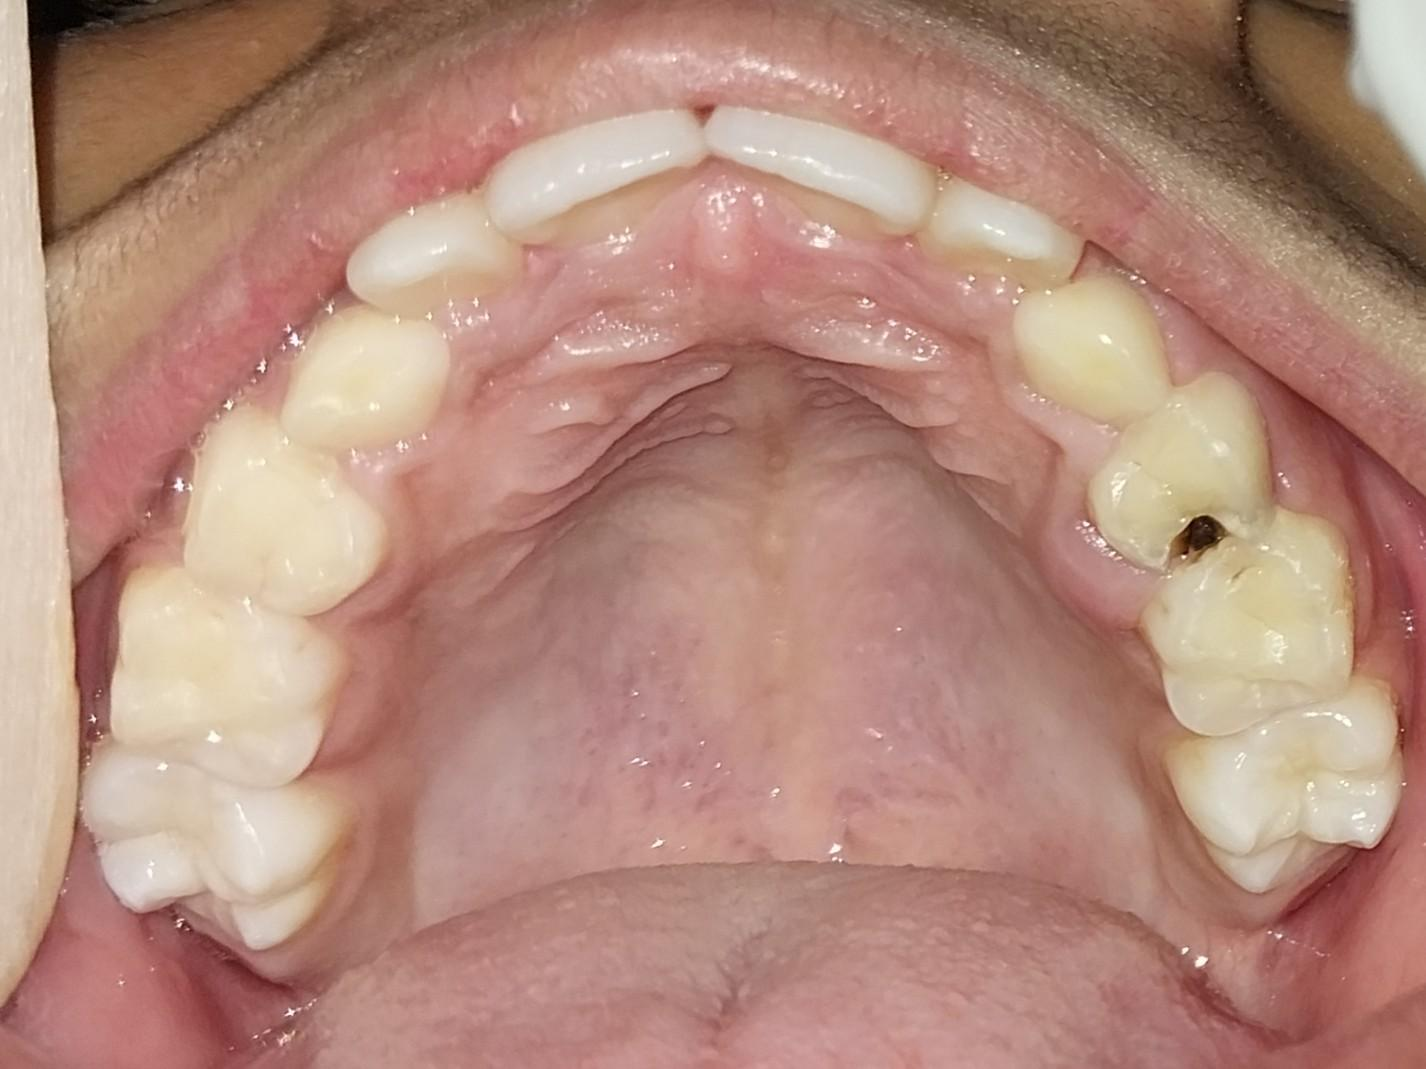d: (1078, 387, 1274, 572)
